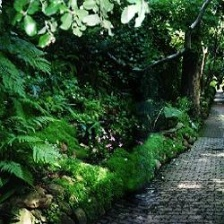neutral: (2, 2, 224, 221)
